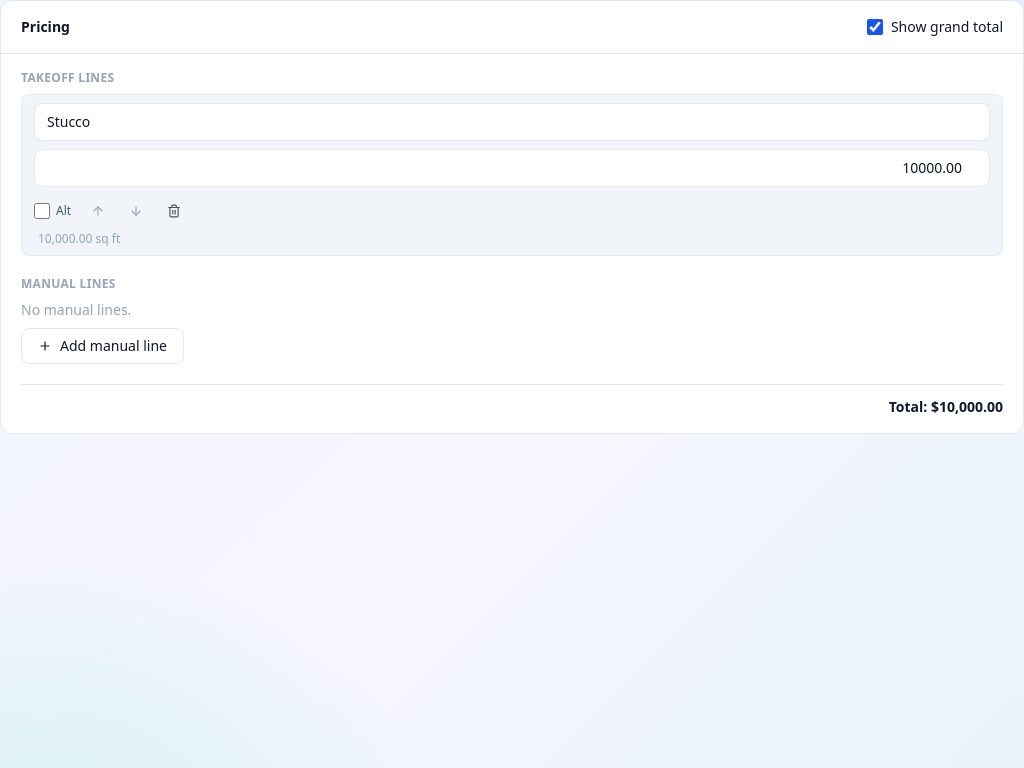
Test case: PricingLinesCard › cancelling the confirmation restores the derived amount
Replace the text in the number field showing "10000.00" with "1" at (512, 168), box [34, 149, 990, 187]
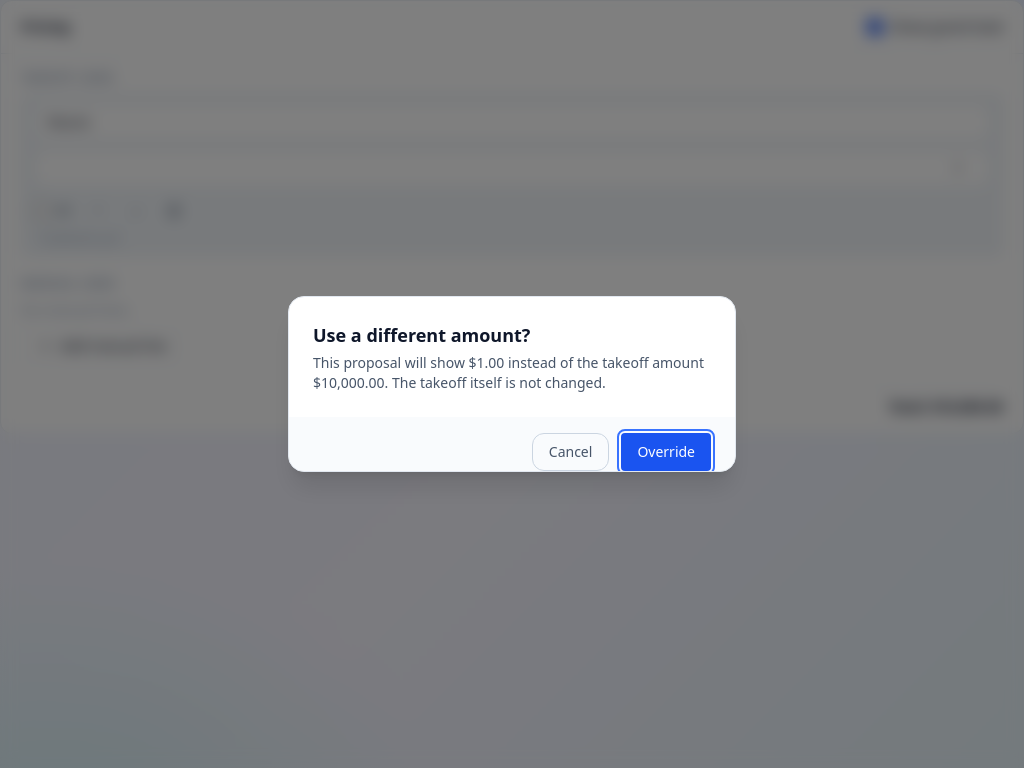
Click the button "Cancel" at (571, 452), box [532, 433, 609, 471]
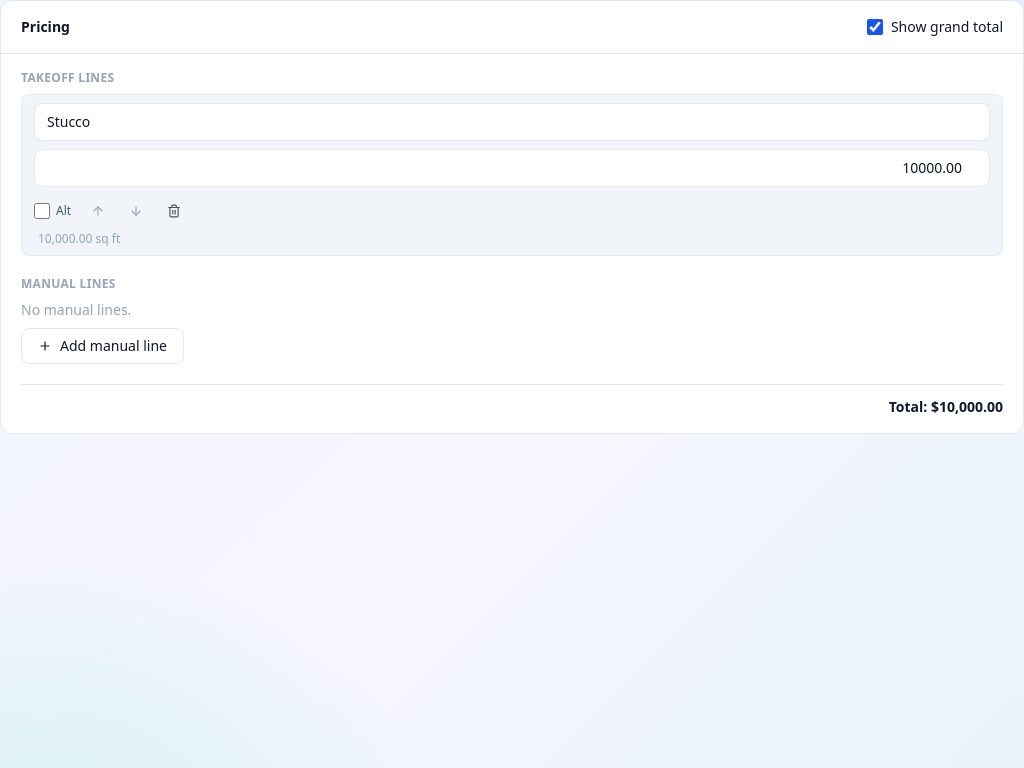
Expected: the number field showing "10000.00" is shown, [34, 149, 990, 187]
